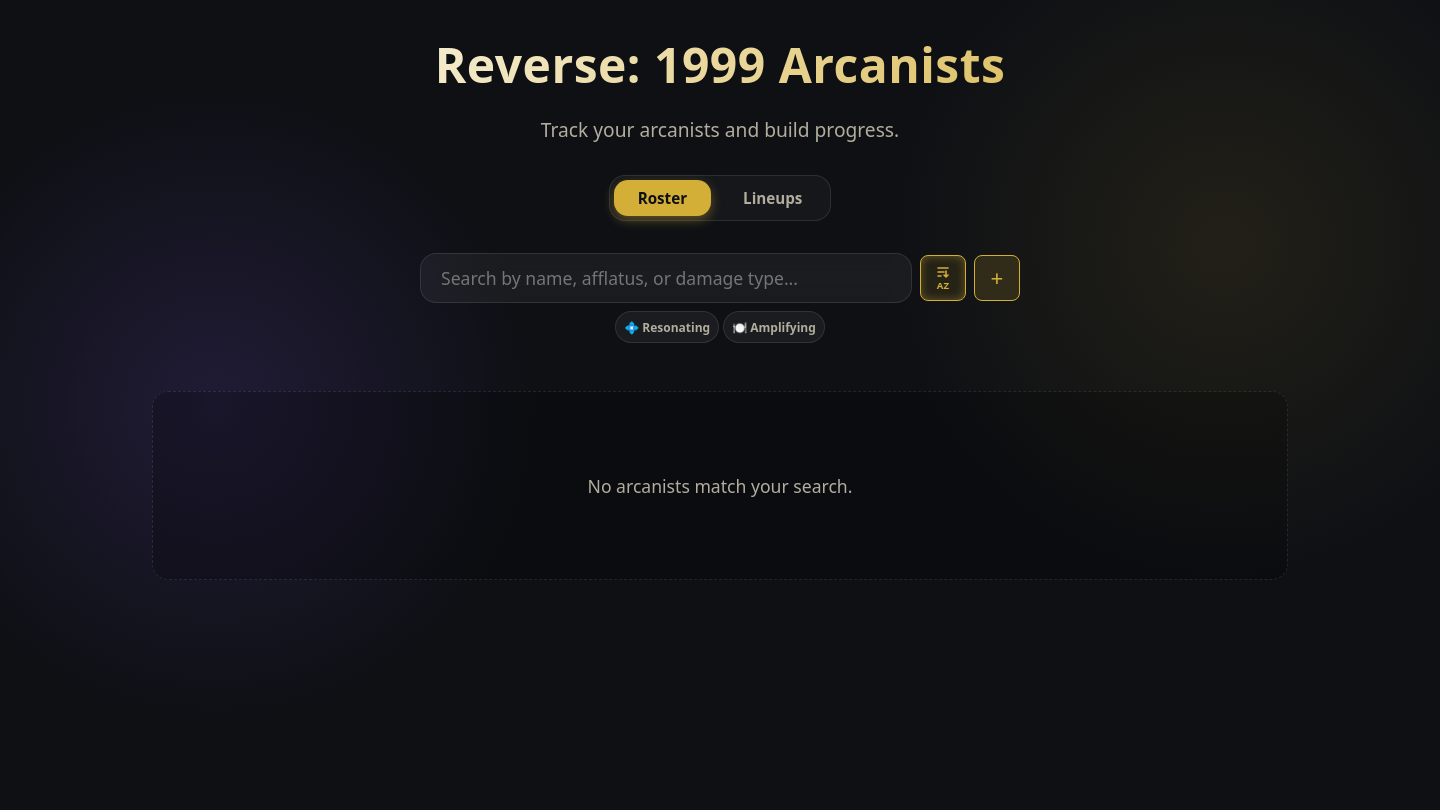
Reverse1999Page › shows the gate-specific empty message when the gate matches nothing
Click the button "💠 Resonating" at (667, 327), box [615,311,719,343]
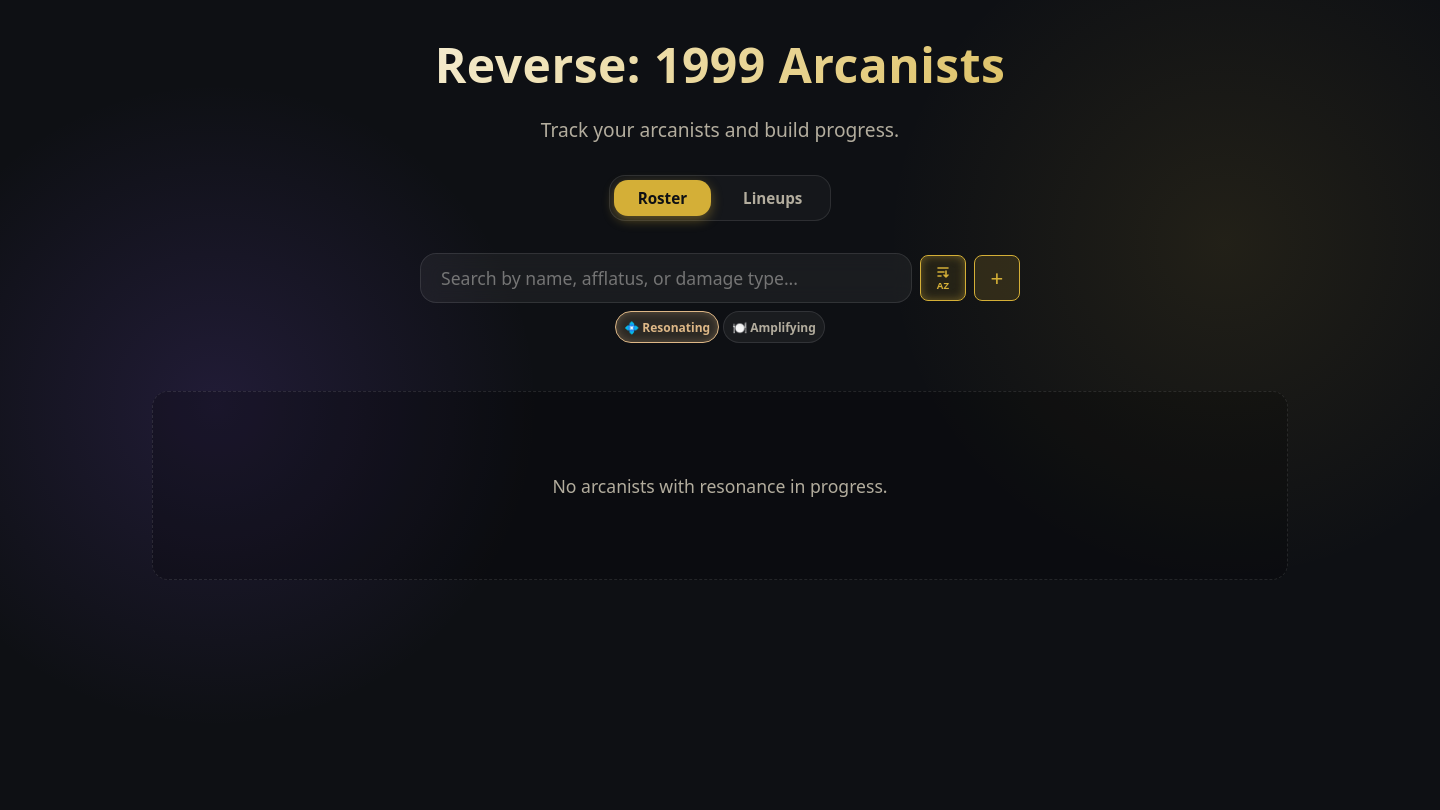
Expected: the text "No arcanists with resonance in progress." is shown, [552,474,888,498]
